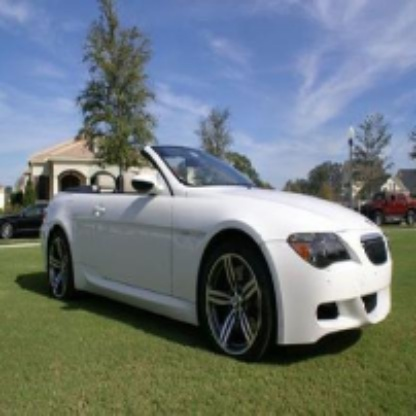Vehicle: (41, 142, 395, 366)
